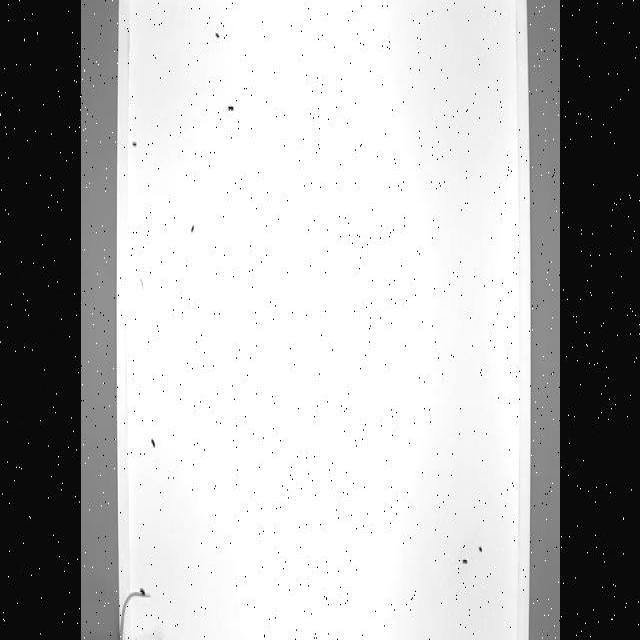rat: (117, 590, 170, 640)
